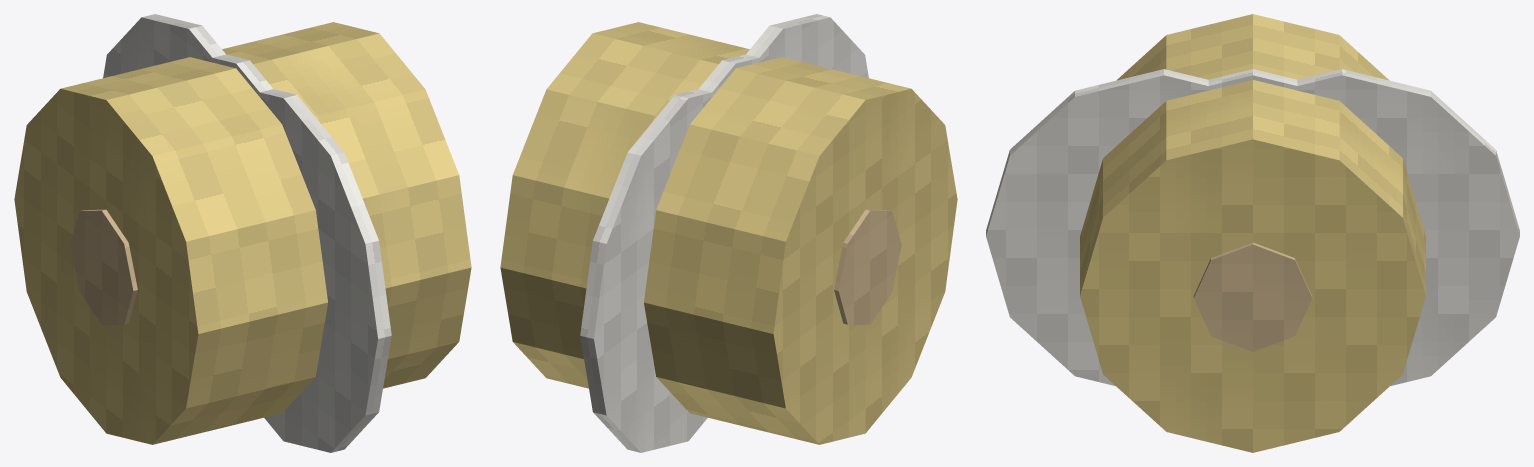
The model's file is pixel-modern-farm-round-hay-bale-93ac9b3b__29135.glb.
3 views of the same model, side by side, from view 1: azimuth 30°, elevation 25°; view 2: azimuth 150°, elevation 25°; view 3: azimuth 270°, elevation 25° (orthographic). The views are drawn at different scales.
Visible parts, largest first — view 1: round-hay-bale; view 2: round-hay-bale; view 3: round-hay-bale.
Boxes of the visible parts, <box> form: round-hay-bale: <box>14,14,471,452</box>; round-hay-bale: <box>500,14,957,452</box>; round-hay-bale: <box>986,14,1519,452</box>.
Size of the model in its own units: 1.24 by 1.44 by 2.16.
3 materials, 3 textured.
